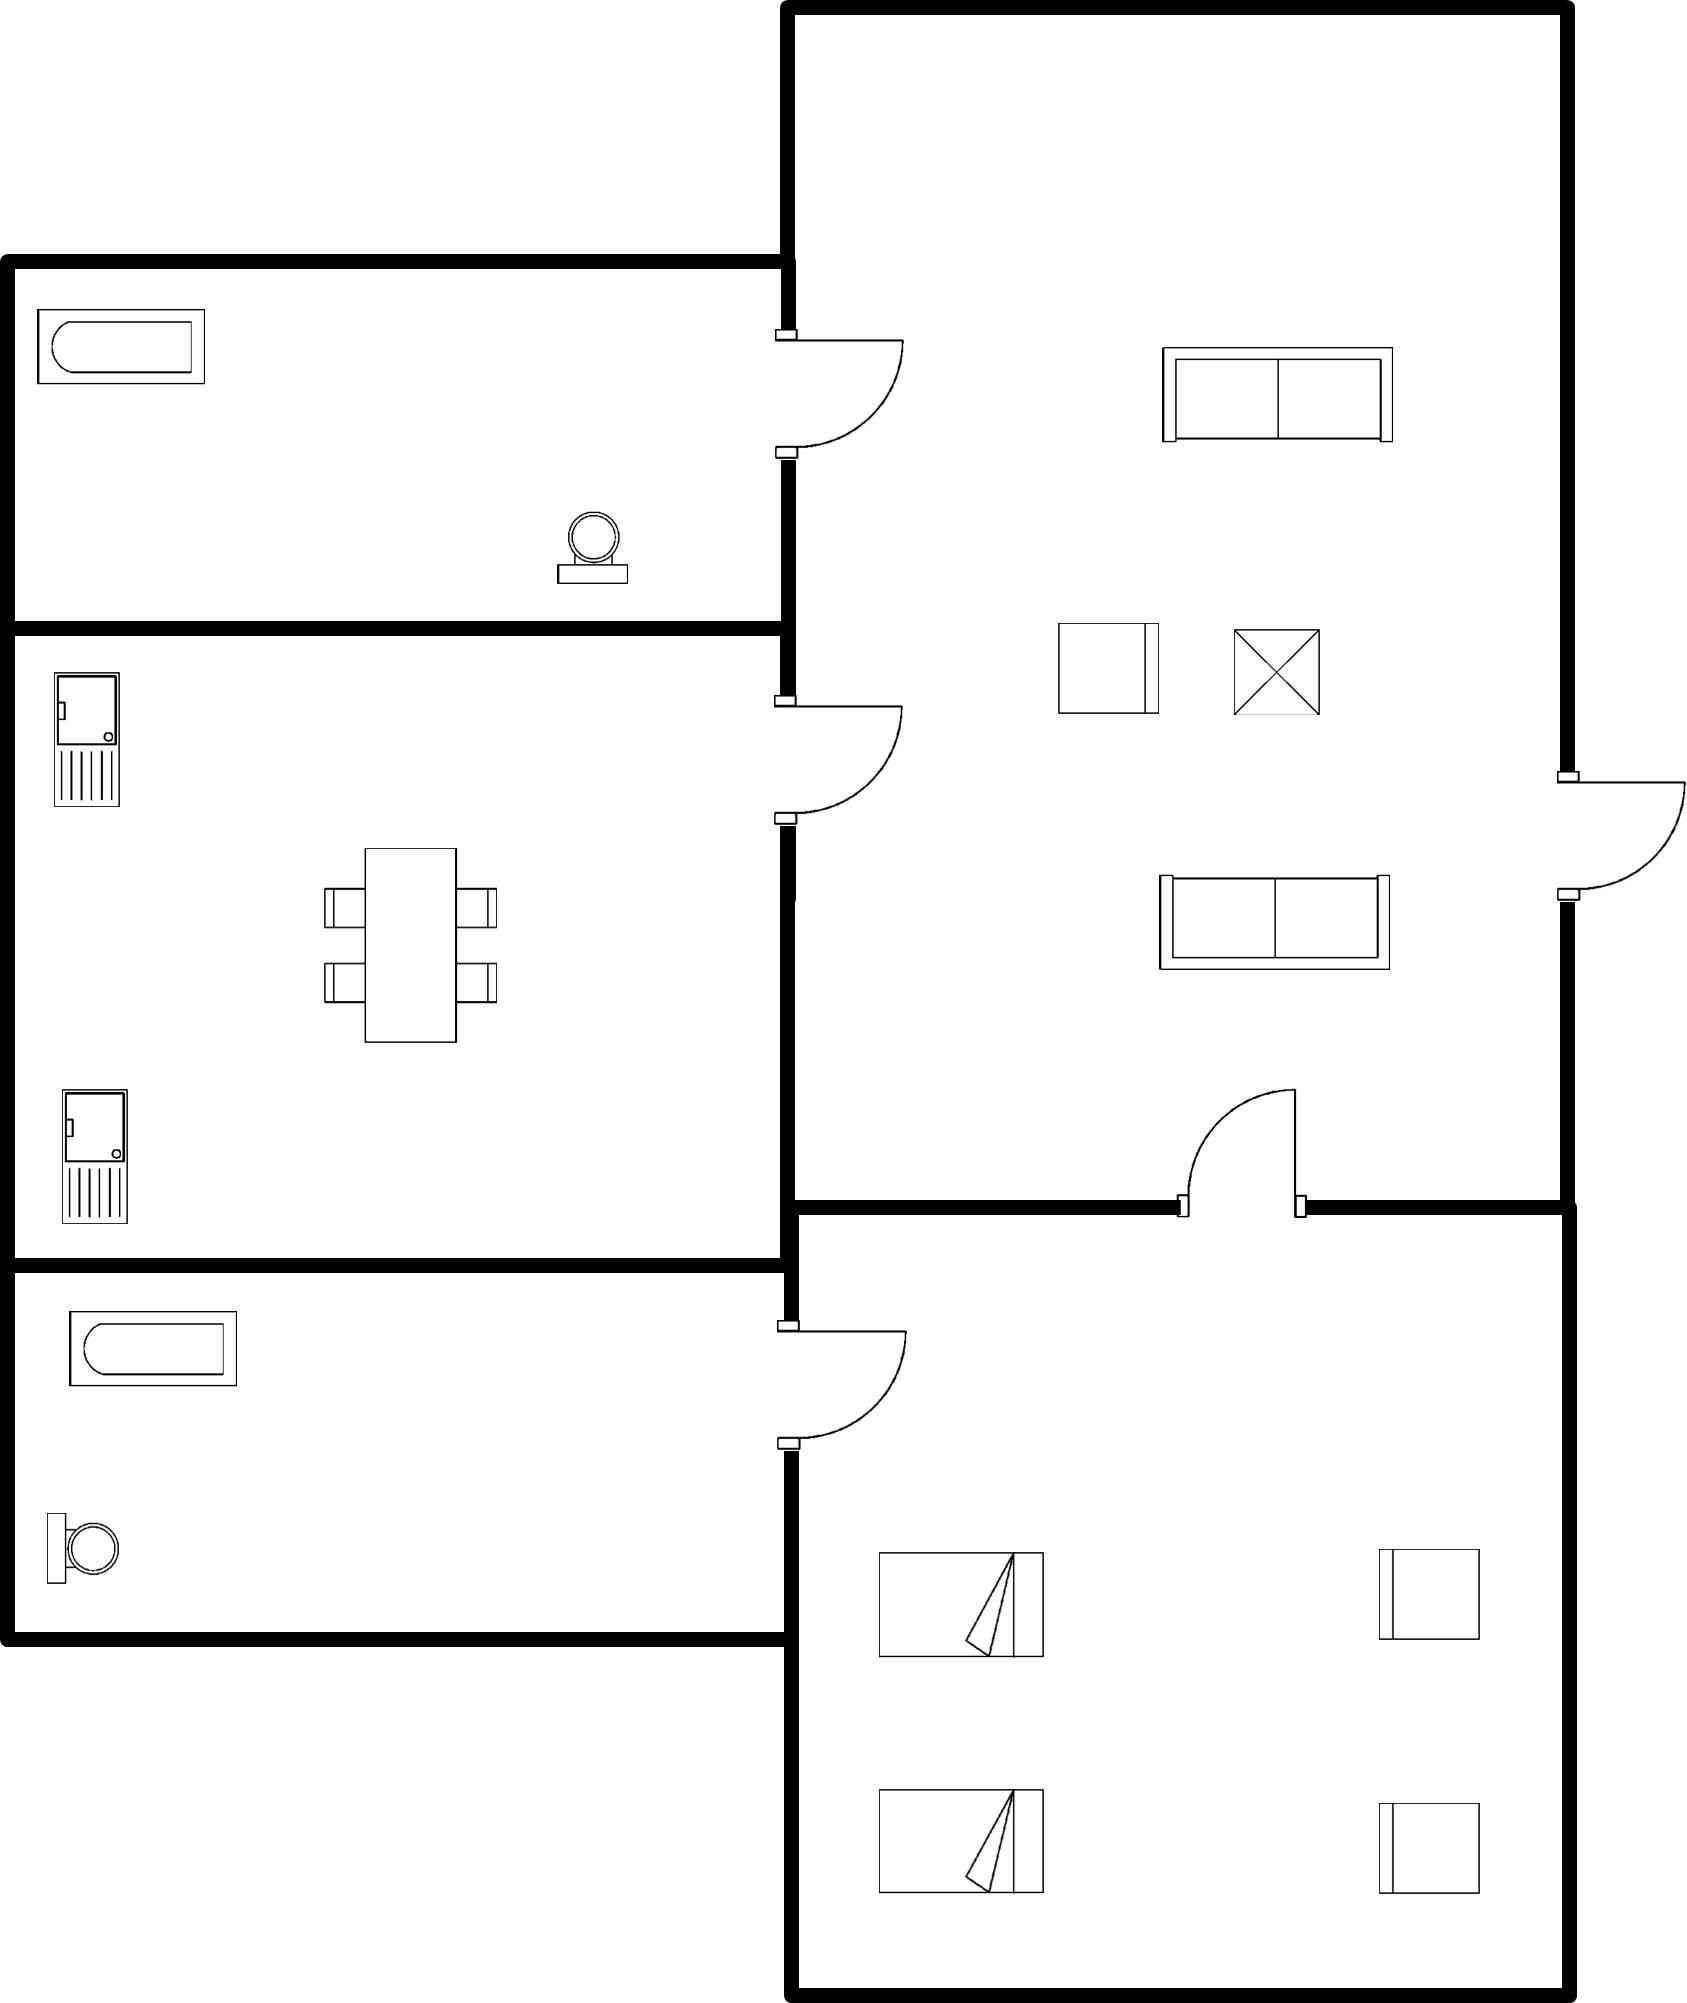bed: (865, 1538, 1058, 1670), (865, 1774, 1054, 1906)
dining_table: (296, 828, 510, 1059)
sink: (44, 654, 131, 827), (47, 1076, 139, 1235)
sofa: (1151, 325, 1413, 457), (1145, 863, 1402, 982), (539, 492, 638, 596)
toilet: (32, 1499, 122, 1601)
tub: (23, 295, 218, 400), (54, 1300, 248, 1401)
